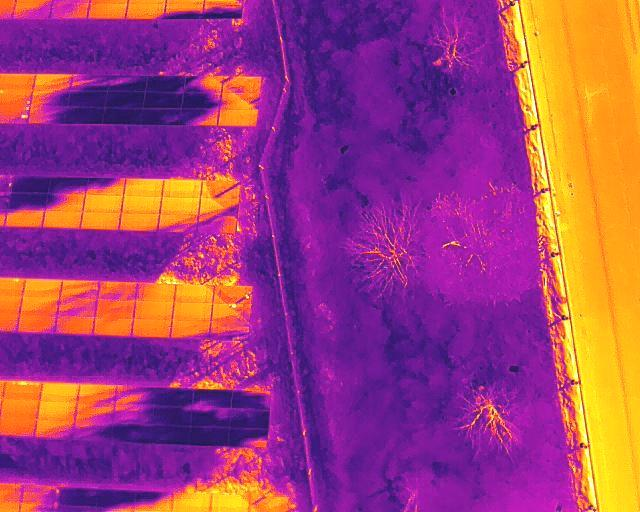Cell: (213, 286, 252, 303), (212, 303, 250, 320)
Cell-Multi: (3, 381, 41, 399)
No-Anomaly: (87, 0, 128, 19), (127, 0, 167, 19), (171, 318, 211, 337), (96, 300, 135, 319), (0, 399, 38, 418), (172, 493, 210, 512), (211, 494, 250, 512), (94, 318, 133, 336), (125, 179, 163, 197), (123, 197, 161, 215), (5, 209, 43, 227), (175, 284, 213, 302), (20, 312, 56, 331), (137, 283, 175, 301), (39, 401, 76, 419), (134, 318, 171, 336), (84, 195, 123, 212), (161, 197, 200, 214), (163, 180, 201, 197), (82, 212, 120, 229), (120, 213, 158, 230), (23, 278, 60, 295), (56, 317, 93, 334), (134, 301, 173, 317), (41, 384, 77, 401), (218, 110, 256, 126), (22, 296, 60, 312), (173, 302, 211, 318), (0, 418, 35, 435), (44, 212, 81, 228)
Shadowing: (151, 387, 193, 406), (58, 487, 97, 507), (151, 406, 192, 425), (151, 426, 191, 445), (192, 407, 230, 427), (77, 386, 115, 406), (191, 427, 230, 446), (74, 423, 113, 442), (98, 281, 137, 300), (211, 320, 250, 339), (36, 419, 73, 439), (165, 0, 206, 18), (232, 391, 270, 410), (193, 389, 231, 408), (230, 428, 268, 447), (230, 409, 268, 428), (250, 494, 290, 512), (115, 386, 151, 406), (22, 485, 58, 505), (71, 74, 108, 93), (76, 406, 113, 425), (114, 407, 151, 426), (98, 490, 135, 509), (205, 0, 244, 18), (159, 215, 198, 233), (136, 492, 172, 511), (87, 178, 125, 196), (181, 108, 218, 126), (59, 299, 96, 317), (49, 0, 88, 17), (31, 74, 72, 90), (198, 216, 236, 233), (223, 75, 260, 92), (113, 426, 150, 443), (47, 194, 84, 211), (201, 198, 238, 215), (61, 280, 98, 297), (145, 77, 184, 93), (141, 108, 180, 124), (69, 92, 105, 109), (31, 91, 69, 107), (202, 181, 240, 197), (15, 1, 52, 17), (184, 77, 221, 93), (30, 108, 67, 124), (49, 178, 86, 194), (106, 92, 145, 107), (103, 108, 142, 123), (11, 192, 47, 208), (145, 93, 183, 108), (220, 93, 257, 108), (11, 176, 48, 191), (67, 108, 103, 123), (108, 77, 146, 91), (184, 93, 220, 107)
